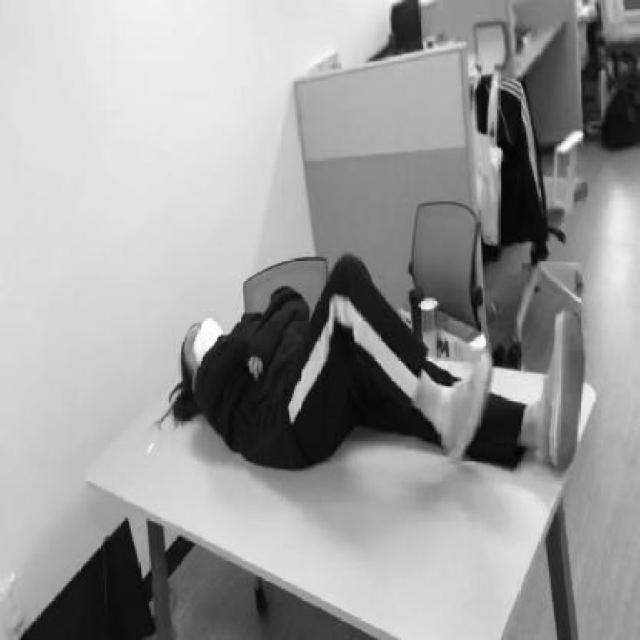person: (170, 250, 587, 496)
